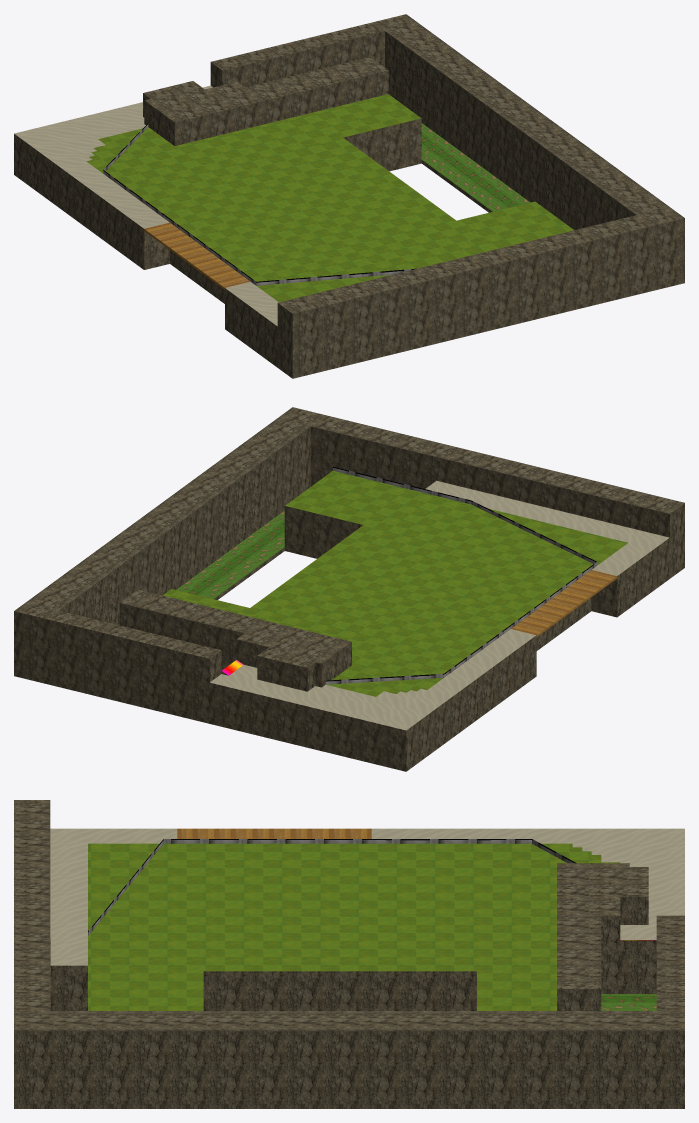
3 renders of one model, top to bottom at view 1: azimuth 30°, elevation 25°; view 2: azimuth 150°, elevation 25°; view 3: azimuth 270°, elevation 25°, orthographic. The views are drawn at different scales.
Visible parts, largest first — view 1: Koopa_Canyon_SKP__Material5, Koopa_Canyon_SKP__Material1, Koopa_Canyon_SKP__Material6, Koopa_Canyon_SKP__Material8, Koopa_Canyon_SKP__Material2, Koopa_Canyon_SKP__Material4; view 2: Koopa_Canyon_SKP__Material5, Koopa_Canyon_SKP__Material1, Koopa_Canyon_SKP__Material6, Koopa_Canyon_SKP__Material8, Koopa_Canyon_SKP__Material4, Koopa_Canyon_SKP__Material2; view 3: Koopa_Canyon_SKP__Material5, Koopa_Canyon_SKP__Material1, Koopa_Canyon_SKP__Material6, Koopa_Canyon_SKP__Material4, Koopa_Canyon_SKP__Material2, Koopa_Canyon_SKP__Material8.
Boxes of the visible parts, x1,y1,x2,y2 form: Koopa_Canyon_SKP__Material5: (14,14,684,378); Koopa_Canyon_SKP__Material1: (86,94,573,302); Koopa_Canyon_SKP__Material6: (14,85,278,326); Koopa_Canyon_SKP__Material8: (421,123,530,211); Koopa_Canyon_SKP__Material2: (144,222,249,289); Koopa_Canyon_SKP__Material4: (103,123,416,285); Koopa_Canyon_SKP__Material5: (14,407,684,771); Koopa_Canyon_SKP__Material1: (162,471,627,696); Koopa_Canyon_SKP__Material6: (210,480,669,730); Koopa_Canyon_SKP__Material8: (176,510,284,598); Koopa_Canyon_SKP__Material4: (325,466,596,684); Koopa_Canyon_SKP__Material2: (511,570,617,636); Koopa_Canyon_SKP__Material5: (14,800,684,1108); Koopa_Canyon_SKP__Material1: (88,843,620,1010); Koopa_Canyon_SKP__Material6: (50,828,684,965); Koopa_Canyon_SKP__Material4: (88,839,576,935); Koopa_Canyon_SKP__Material2: (177,828,371,838); Koopa_Canyon_SKP__Material8: (601,994,656,1010).
Size of what is drawn, in the model's own units: 49898 by 8371 by 61395.
7 materials, 7 textured.
